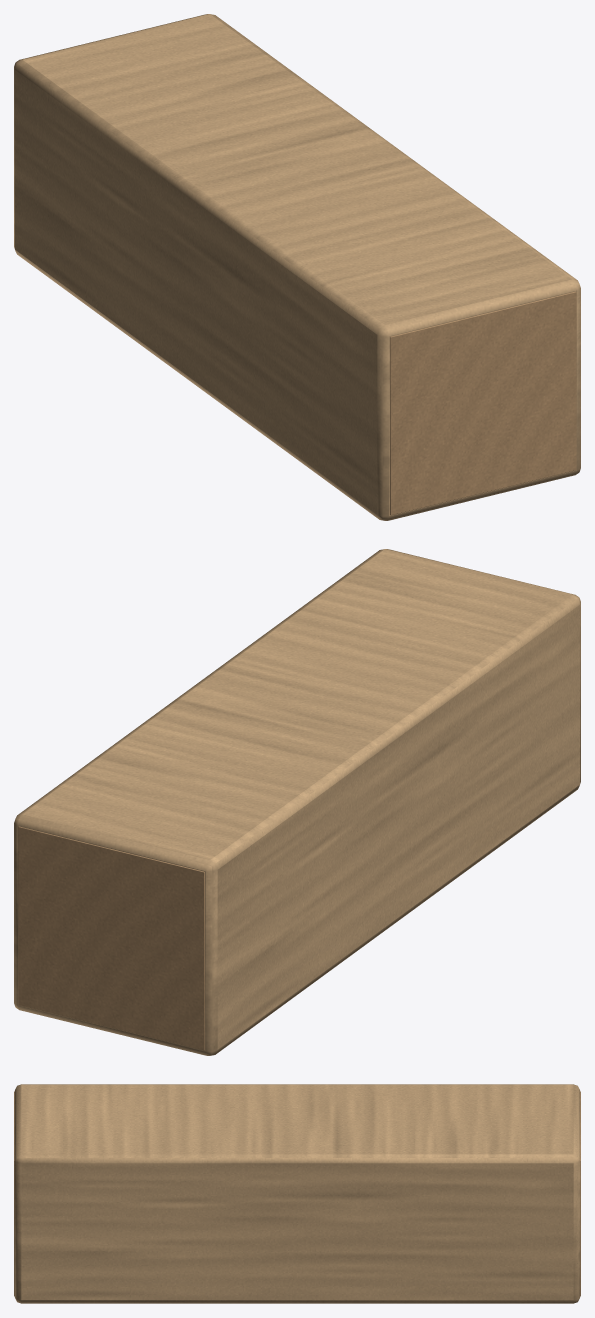
Rendered from 13-crossed-block-layers-5-3.fbx.
The picture shows the model from 3 angles, top to bottom: view 1: azimuth 30°, elevation 25°; view 2: azimuth 150°, elevation 25°; view 3: azimuth 270°, elevation 25°; orthographic projection. The views are drawn at different scales.
Parts seen in each view (by area): view 1: crossed-block-layers-5-3; view 2: crossed-block-layers-5-3; view 3: crossed-block-layers-5-3.
Part boxes in pixels (left/top/right/bottom): crossed-block-layers-5-3: left=14, top=14, right=580, bottom=520; crossed-block-layers-5-3: left=14, top=549, right=580, bottom=1055; crossed-block-layers-5-3: left=14, top=1084, right=580, bottom=1303.
Size of the model in its own units: 1733 by 1600 by 5515.
1 material, 1 textured.
